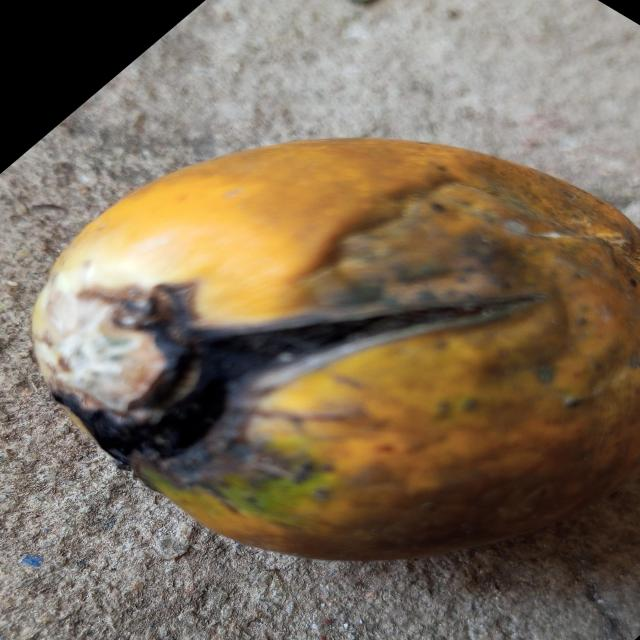damaged: (32, 139, 640, 560)
